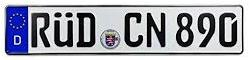0: (217, 12, 239, 48)
8: (175, 11, 195, 48)
9: (196, 11, 217, 49)
C: (123, 11, 144, 48)
D: (76, 11, 96, 48)
N: (145, 11, 167, 48)
R: (30, 11, 51, 48)
ue: (53, 11, 74, 48)
